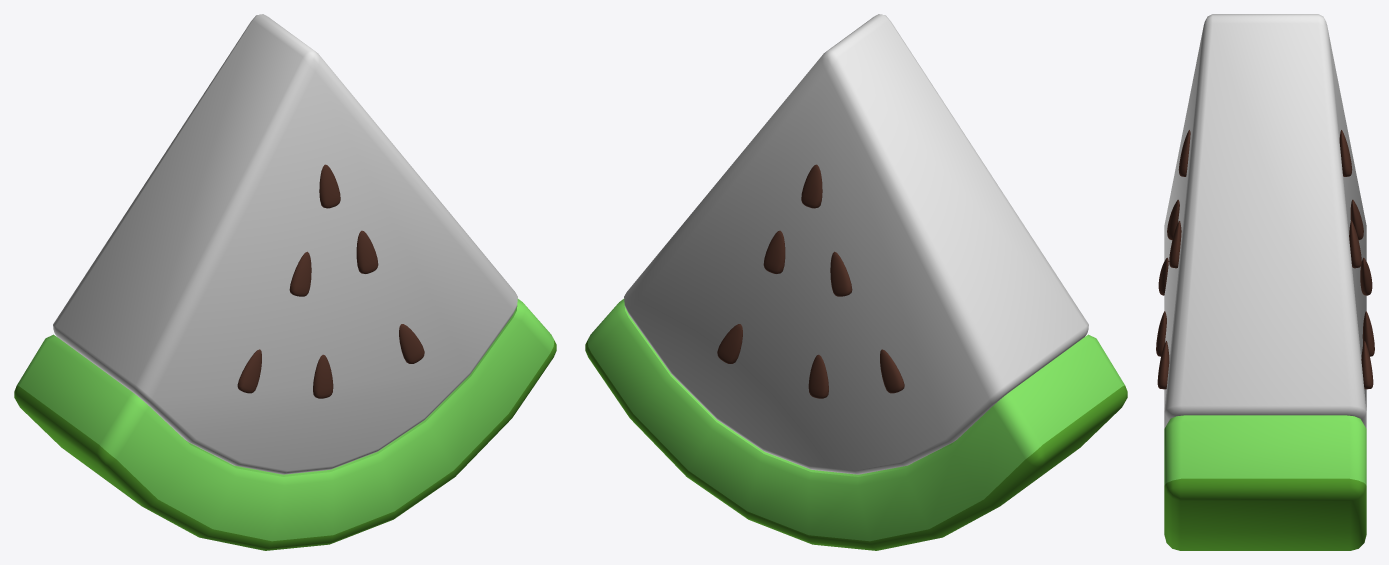
Rendered from waterMelon.fbx.
3 renders of one model, left to right at view 1: azimuth 30°, elevation 25°; view 2: azimuth 150°, elevation 25°; view 3: azimuth 270°, elevation 25°, orthographic. The views are drawn at different scales.
Parts seen in each view (by area): view 1: WM_jilly, WM; view 2: WM_jilly, WM; view 3: WM_jilly, WM.
Boxes of the visible parts, x1,y1,x2,y2 form: WM_jilly: [53, 14, 517, 474]; WM: [14, 164, 556, 550]; WM_jilly: [624, 14, 1088, 474]; WM: [585, 164, 1127, 550]; WM_jilly: [1164, 14, 1366, 428]; WM: [1156, 130, 1374, 550].
Size of the model in its own units: 124 by 125 by 48.52.
